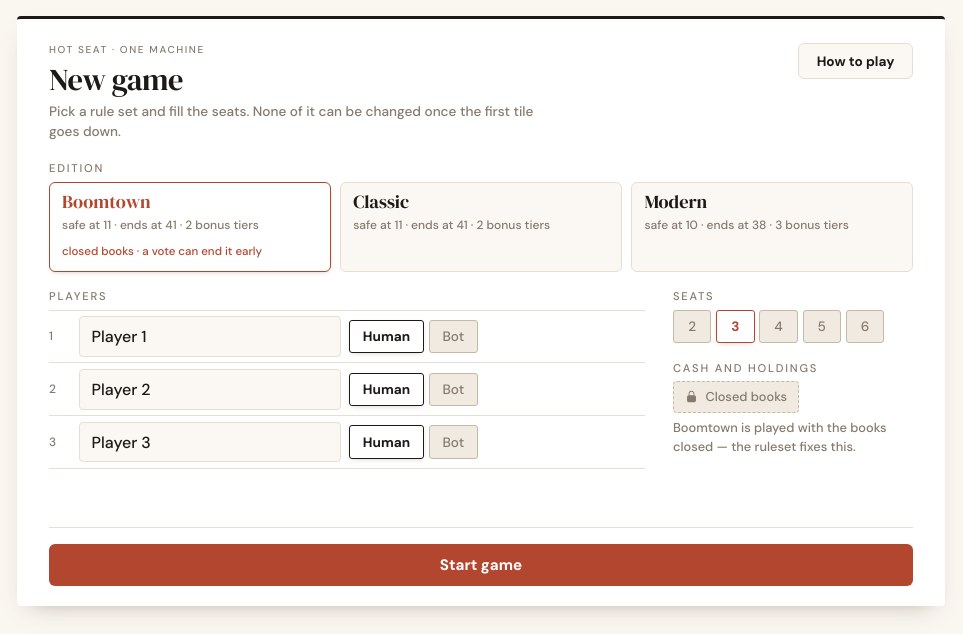
Test: the edition cards › starts on Boomtown and switches on a click
This screenshot has width=963, height=634.
Expected: the radio button labelled "Boomtown" is checked, [49,182,331,272]
Click the radio button labelled "Modern safe at 10 · ends at 38 · 3 bonus tiers" at (772, 227), box [631,182,913,272]
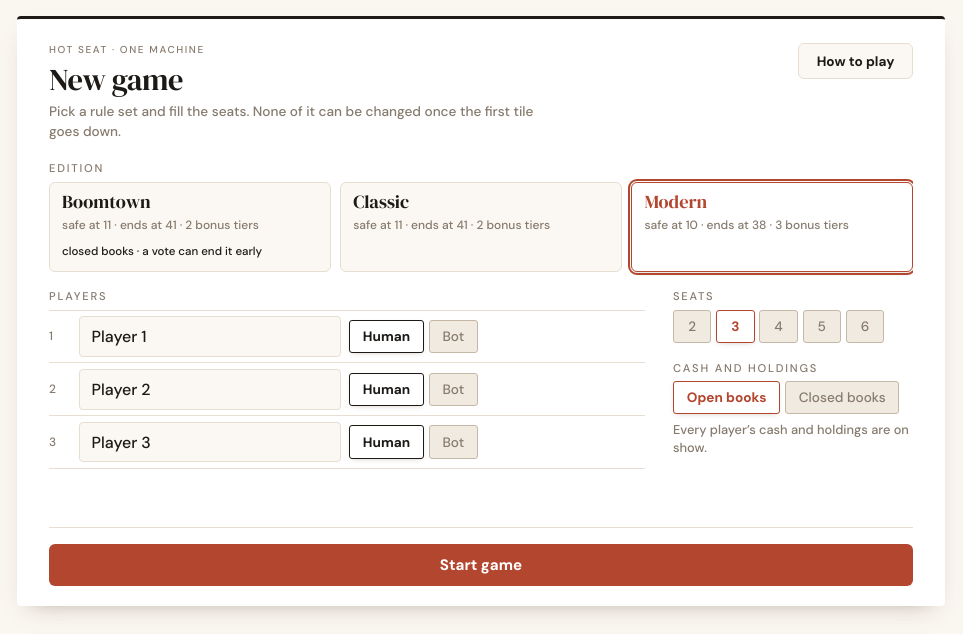
Expected: the radio button labelled "Modern safe at 10 · ends at 38 · 3 bonus tiers" is checked, [631,182,913,272]
Expected: the radio button labelled "Boomtown" is not checked, [49,182,331,272]
